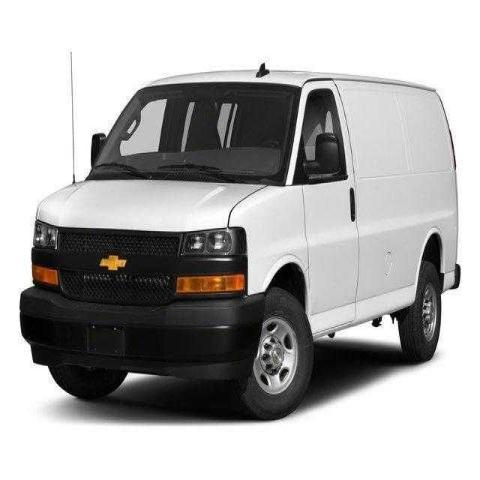van: (20, 67, 460, 422)
